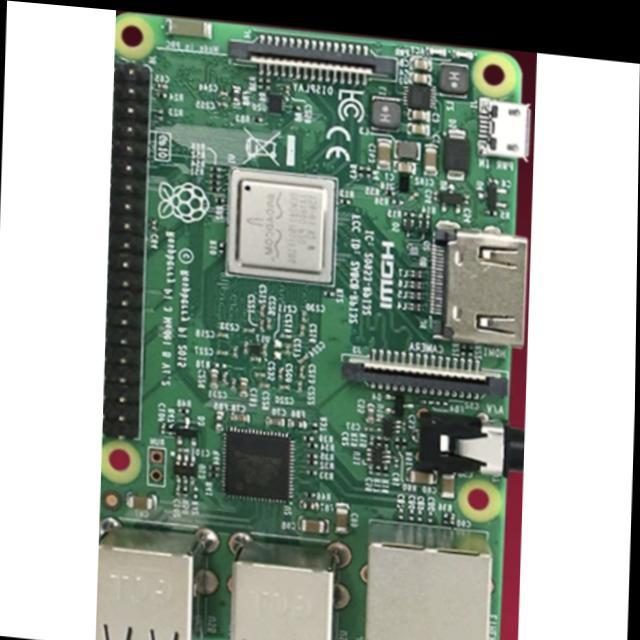Raspberry-Pi-3-B: (98, 14, 531, 640)
